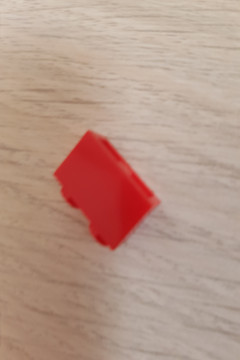1x2 red: (48, 129, 164, 257)
